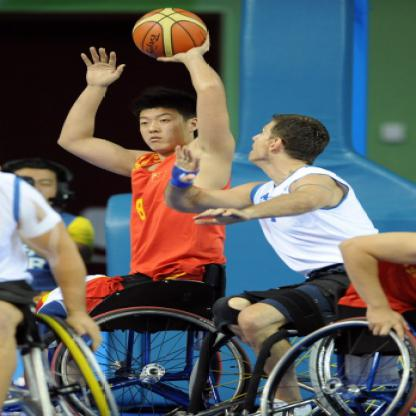wheelchair: (54, 20, 266, 415), (184, 109, 410, 415)
